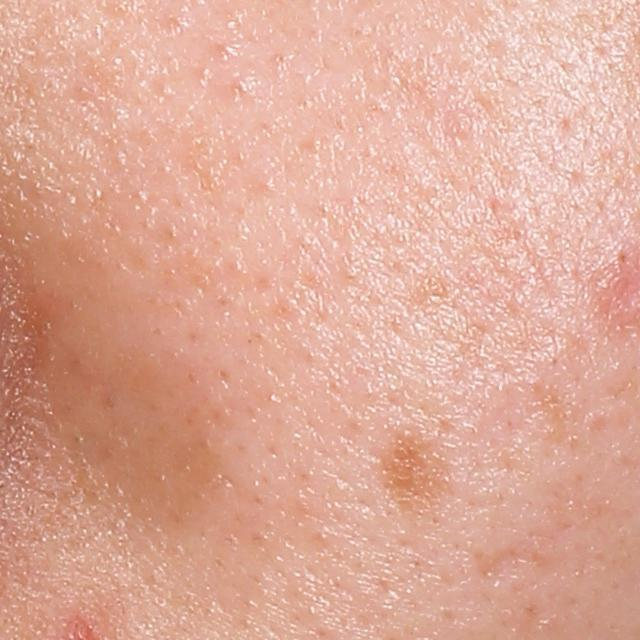atrophic_scar: (478, 545, 532, 585)
melasma: (382, 431, 453, 511)
